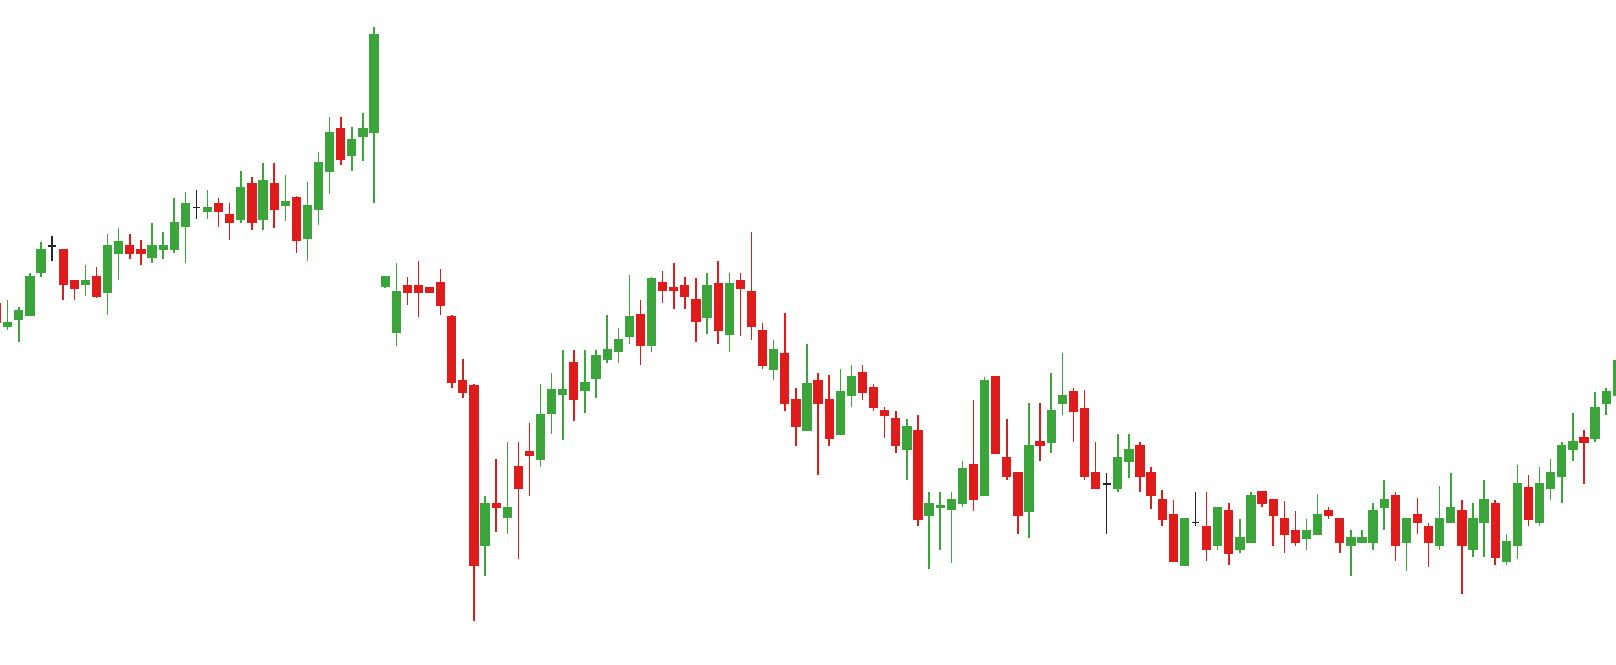buy: (225, 191, 314, 265)
sell: (977, 350, 1081, 467)
